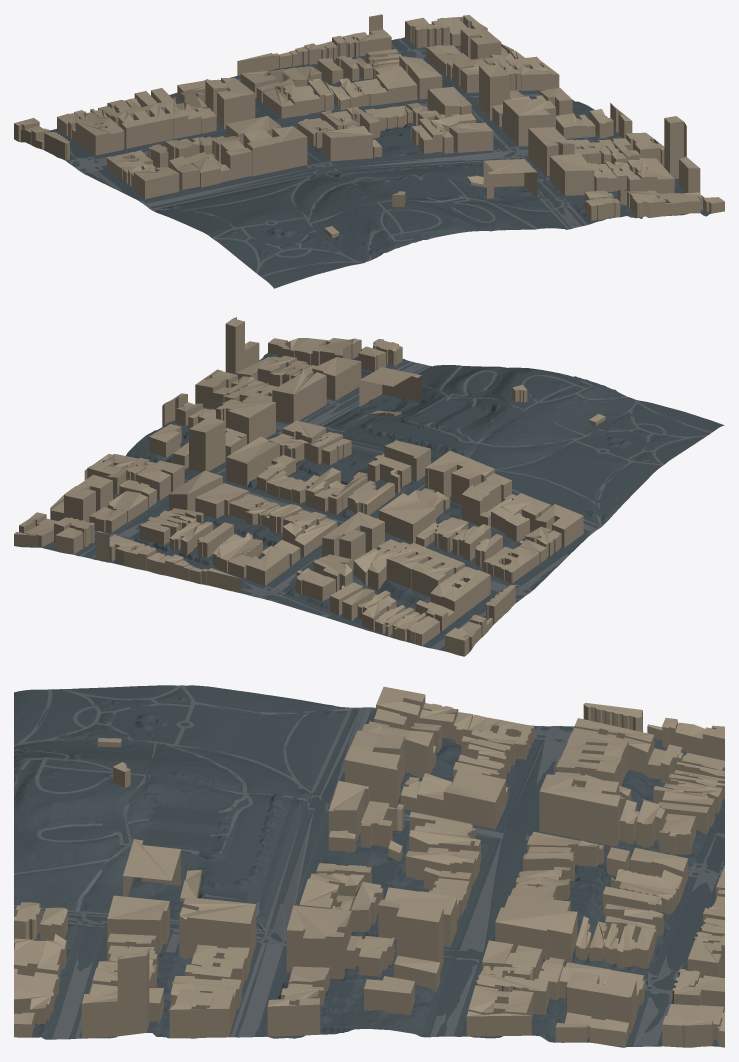
Rendered from epsg26910-1433-10892.lod0.glb.
The picture shows the model from 3 angles, top to bottom: view 1: azimuth 30°, elevation 25°; view 2: azimuth 150°, elevation 25°; view 3: azimuth 270°, elevation 25°; orthographic projection. The views are drawn at different scales.
Parts seen in each view (by area): view 1: epsg26910-1433-10892-lod0; view 2: epsg26910-1433-10892-lod0; view 3: epsg26910-1433-10892-lod0.
Part boxes in pixels (x1,y1,x2,y2): epsg26910-1433-10892-lod0: [14, 14, 724, 288]; epsg26910-1433-10892-lod0: [14, 317, 724, 656]; epsg26910-1433-10892-lod0: [14, 685, 724, 1047].
Bounding box in the file's own units: 384 × 56.14 × 384.
